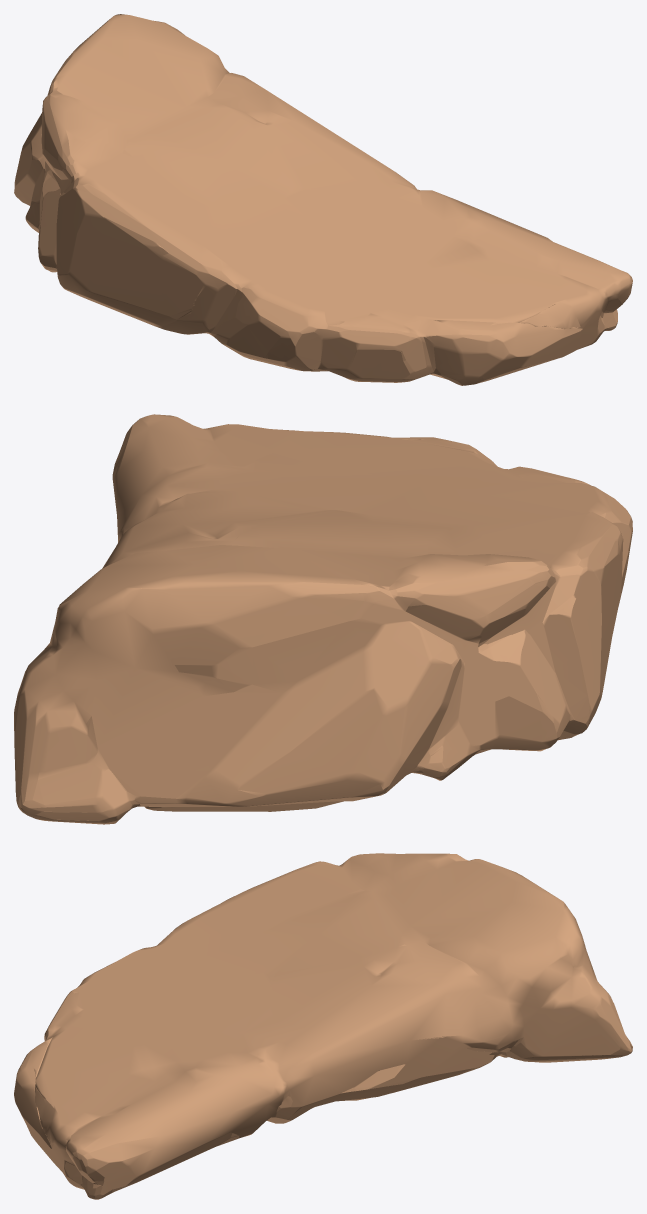
3 renders of one model, top to bottom at view 1: azimuth 30°, elevation 25°; view 2: azimuth 150°, elevation 25°; view 3: azimuth 270°, elevation 25°, orthographic. The views are drawn at different scales.
Visible parts, largest first — view 1: Mesh_28_LOD0; view 2: Mesh_28_LOD0; view 3: Mesh_28_LOD0.
Part boxes in pixels (x1,y1,x2,y2): Mesh_28_LOD0: (14, 14, 632, 385); Mesh_28_LOD0: (14, 414, 632, 824); Mesh_28_LOD0: (14, 853, 632, 1199).
Size of what is drawn, in the model's own units: 2786 by 1213 by 3566.
